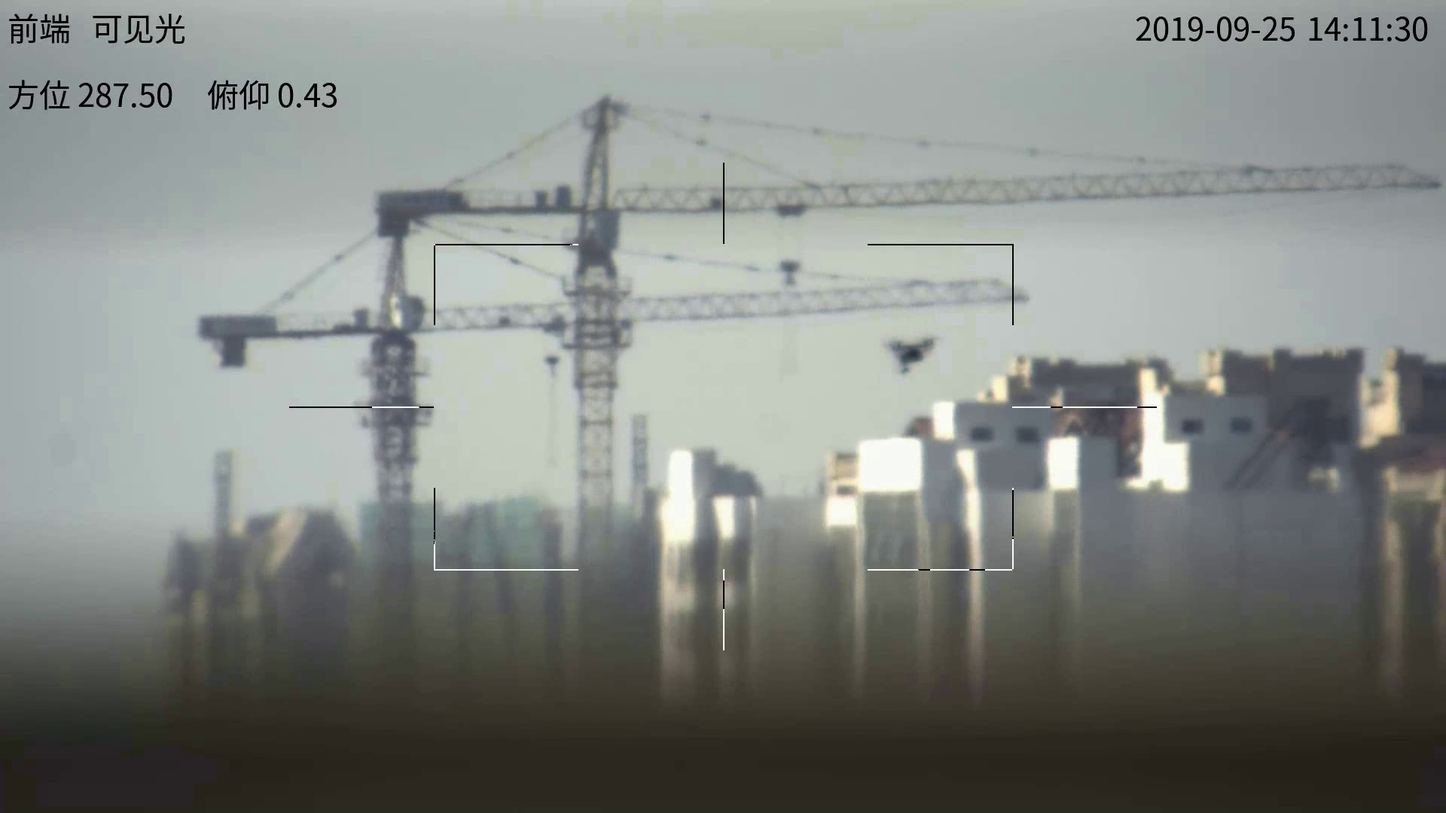drone_other: (883, 331, 938, 377)
